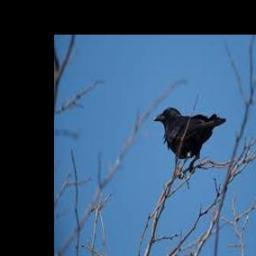Crow: (152, 106, 225, 173)
